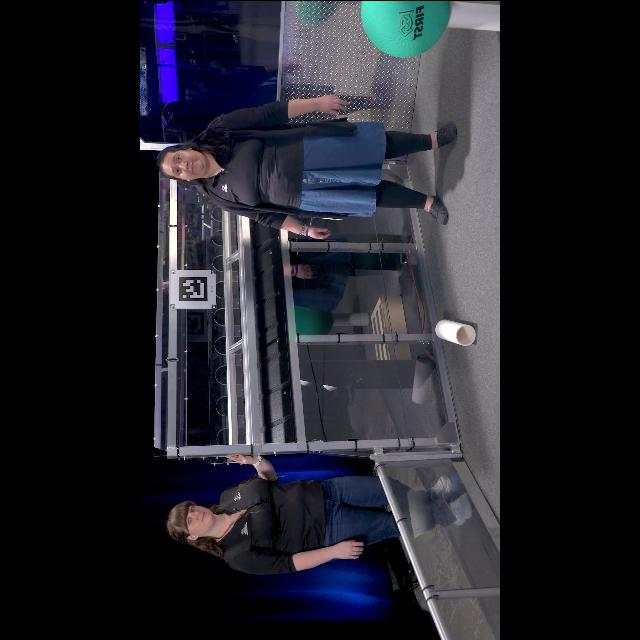ALGAE: (361, 0, 452, 56)
CORAL: (448, 1, 500, 32), (436, 318, 476, 346)
